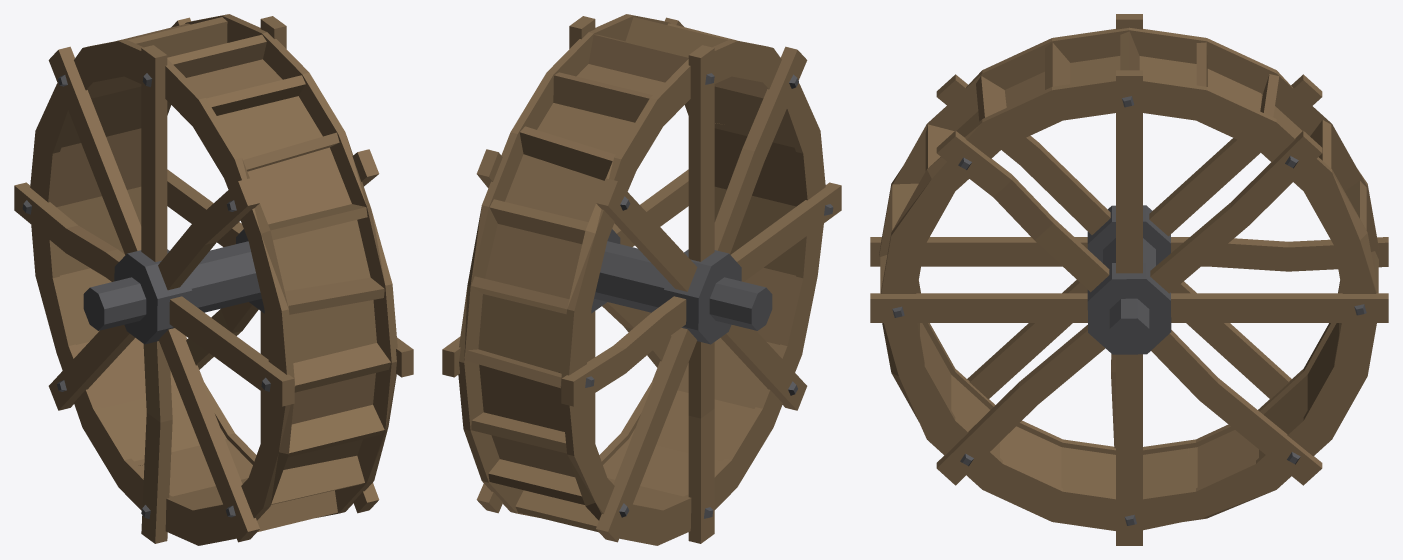
Rendered from SM_Prop_WaterWheel_01.gltf.
The picture shows the model from 3 angles, left to right: view 1: azimuth 30°, elevation 25°; view 2: azimuth 150°, elevation 25°; view 3: azimuth 270°, elevation 25°; orthographic projection. The views are drawn at different scales.
Parts seen in each view (by area): view 1: SM_Prop_WaterWheel_01; view 2: SM_Prop_WaterWheel_01; view 3: SM_Prop_WaterWheel_01.
Boxes of the visible parts, x1=… form: SM_Prop_WaterWheel_01: x1=14, y1=14, x2=413, y2=545; SM_Prop_WaterWheel_01: x1=442, y1=14, x2=841, y2=545; SM_Prop_WaterWheel_01: x1=870, y1=14, x2=1388, y2=545.
Bounding box in the file's own units: 2.51 × 4.85 × 4.85.
1 material, 1 textured.
